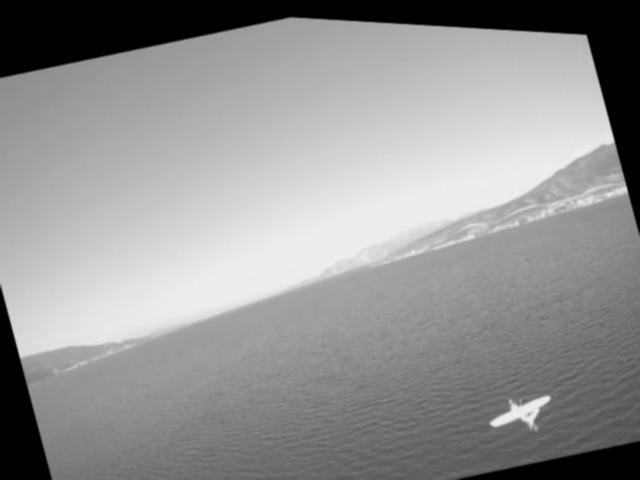hedef: (478, 367, 572, 448)
